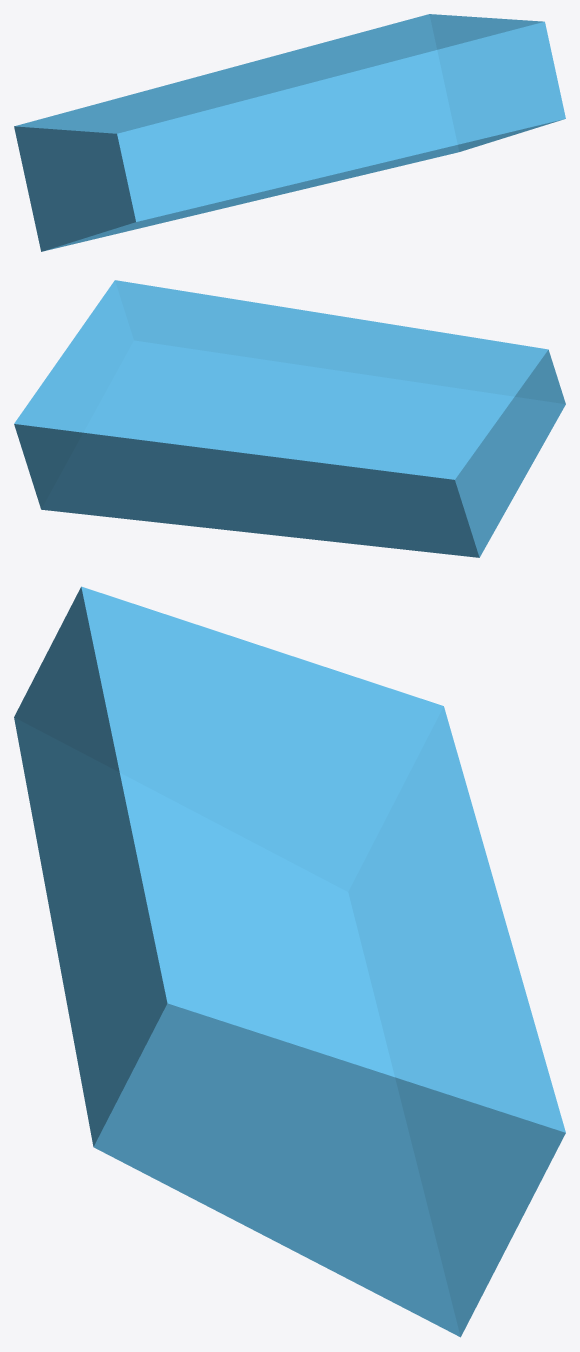
Rendered from Event_421556567_HErechit_78.fbx.
3 renders of one model, top to bottom at view 1: azimuth 30°, elevation 25°; view 2: azimuth 150°, elevation 25°; view 3: azimuth 270°, elevation 25°, orthographic. The views are drawn at different scales.
Parts seen in each view (by area): view 1: Model; view 2: Model; view 3: Model.
Boxes of the visible parts, x1,y1,x2,y2 form: Model: (14,14,565,251); Model: (14,280,565,557); Model: (14,586,565,1337).
Bounding box in the file's own units: 1.11 × 0.4871 × 0.6685.
